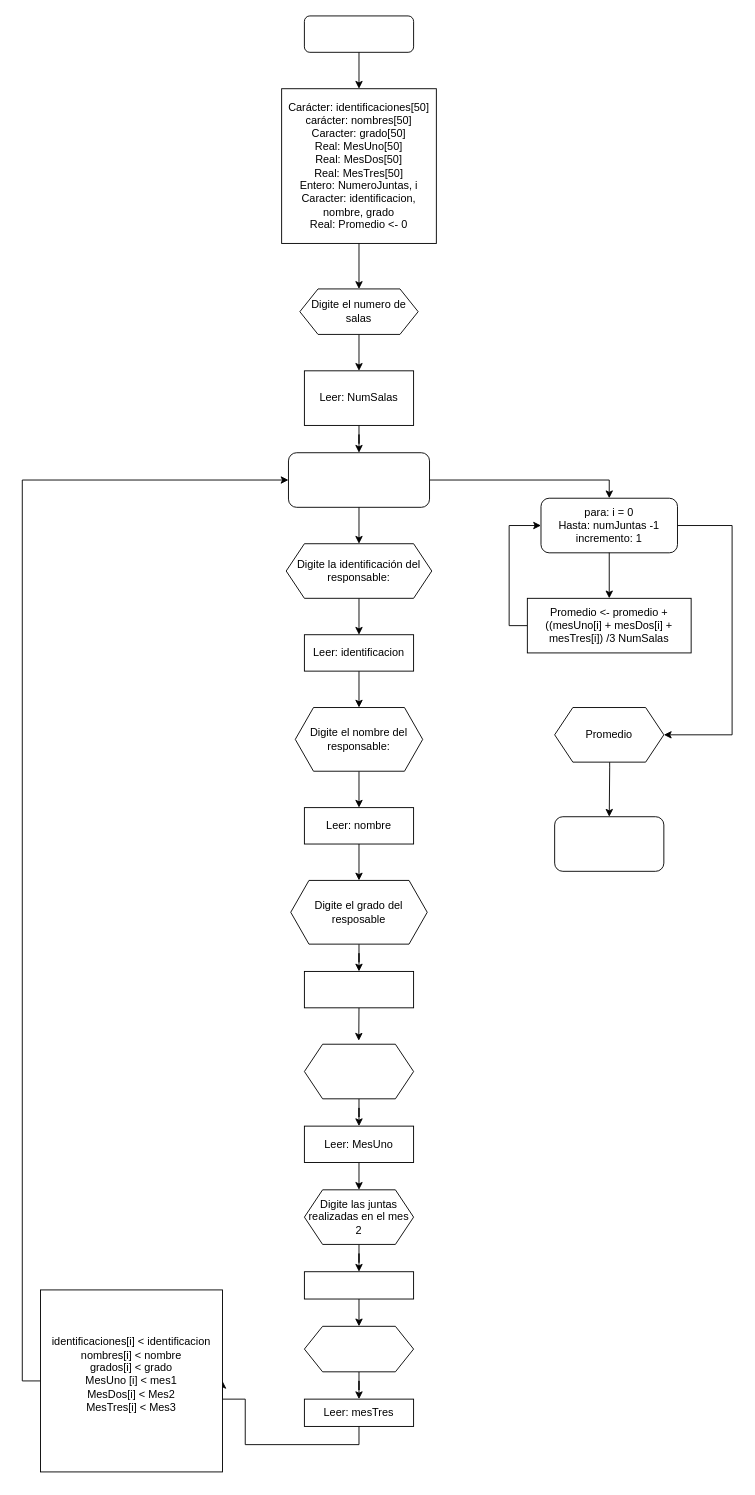
Some shapes in this 755 by 1495 pixel diagram are drawn without their labels. The centre of each missing label's shape, as x and y in pixels:
Digite las juntas realizadas en el mes 1: pixel 358 1071
Digite las juntas realizadas en el mes 3: pixel 358 1348
FIN: pixel 609 843
inicio: pixel 358 33
Leer: grado: pixel 358 989
Leer: MesDos: pixel 358 1285
para: i = 0 Hasta: numSalas -1 incremento: 1: pixel 359 479
